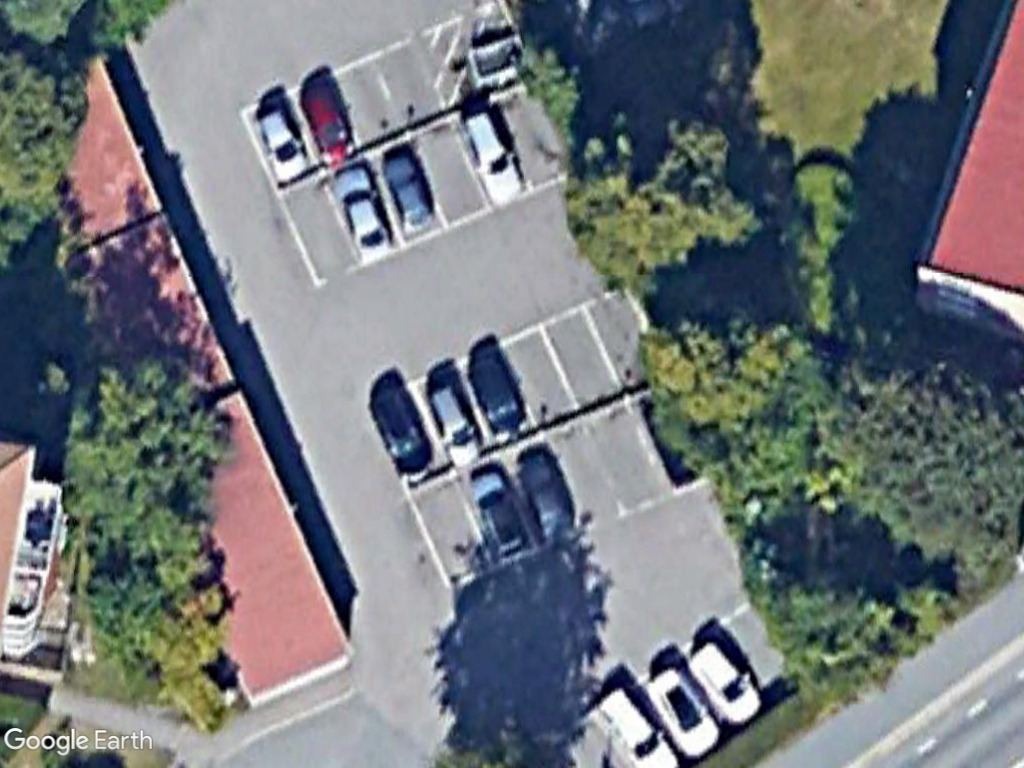car: (453, 103, 529, 209), (686, 633, 767, 730), (642, 661, 719, 759), (463, 458, 532, 567), (367, 382, 437, 485), (331, 157, 395, 265), (513, 442, 582, 540), (424, 372, 487, 469), (249, 98, 315, 189), (298, 73, 359, 171), (380, 144, 440, 234)
van: (585, 679, 678, 768)
